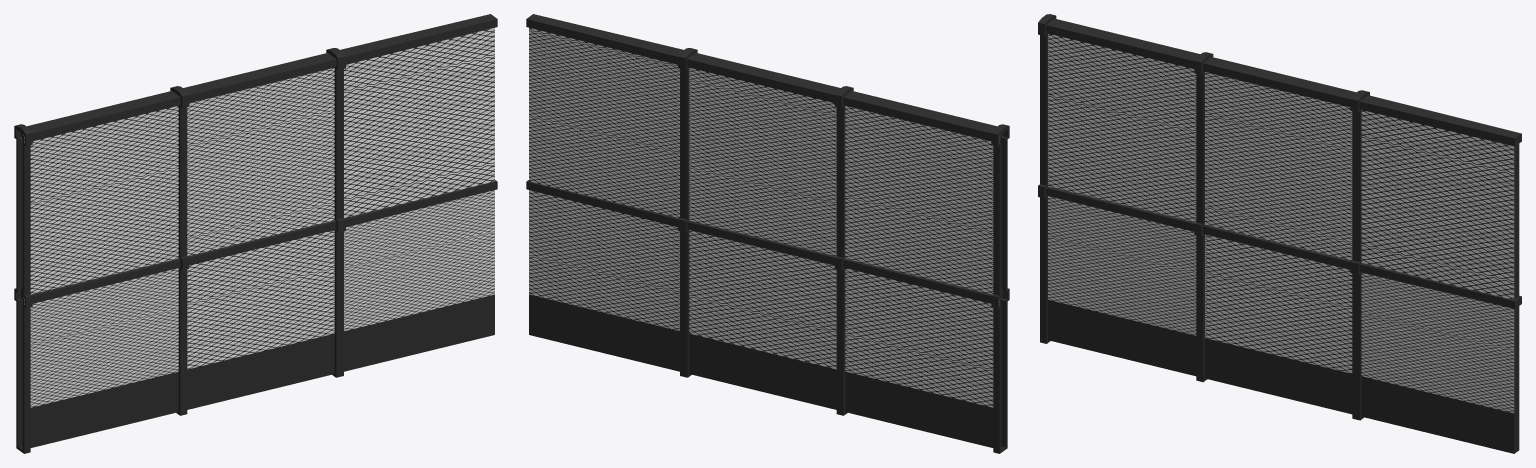
The model's file is barr4.fbx.
3 views of the same model, side by side, from view 1: azimuth 30°, elevation 25°; view 2: azimuth 150°, elevation 25°; view 3: azimuth 330°, elevation 25° (orthographic).
Visible parts, largest first — view 1: pCube12; view 2: pCube12; view 3: pCube12.
Part boxes in pixels (x1=…): pCube12: x1=14, y1=14, x2=497, y2=453; pCube12: x1=526, y1=14, x2=1009, y2=453; pCube12: x1=1038, y1=14, x2=1521, y2=453.
Bounding box in the file's own units: 2290 × 1491 × 98.38.
Materials: 2 (1 with a texture image).
